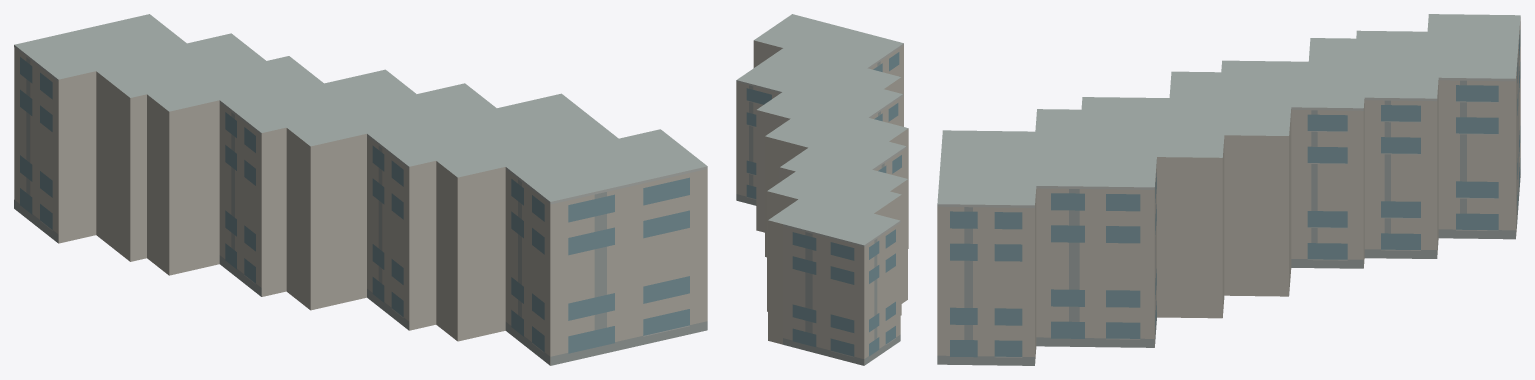
Rendered from residential-358cb550-b62e-4f86-acc0-2ec1c5287f98.glb.
3 views of the same model, side by side, from view 1: azimuth 30°, elevation 25°; view 2: azimuth 150°, elevation 25°; view 3: azimuth 270°, elevation 25° (orthographic). The views are drawn at different scales.
Visible parts, largest first — view 1: residential-358cb550-b62e-4f86-acc0-2ec1c5287f98.tmp; view 2: residential-358cb550-b62e-4f86-acc0-2ec1c5287f98.tmp; view 3: residential-358cb550-b62e-4f86-acc0-2ec1c5287f98.tmp.
Part boxes in pixels (bbox=[...]): residential-358cb550-b62e-4f86-acc0-2ec1c5287f98.tmp: bbox=[14, 14, 707, 365]; residential-358cb550-b62e-4f86-acc0-2ec1c5287f98.tmp: bbox=[736, 14, 908, 365]; residential-358cb550-b62e-4f86-acc0-2ec1c5287f98.tmp: bbox=[937, 14, 1520, 365].
Size of the model in its own units: 39.03 by 15.25 by 50.24.
